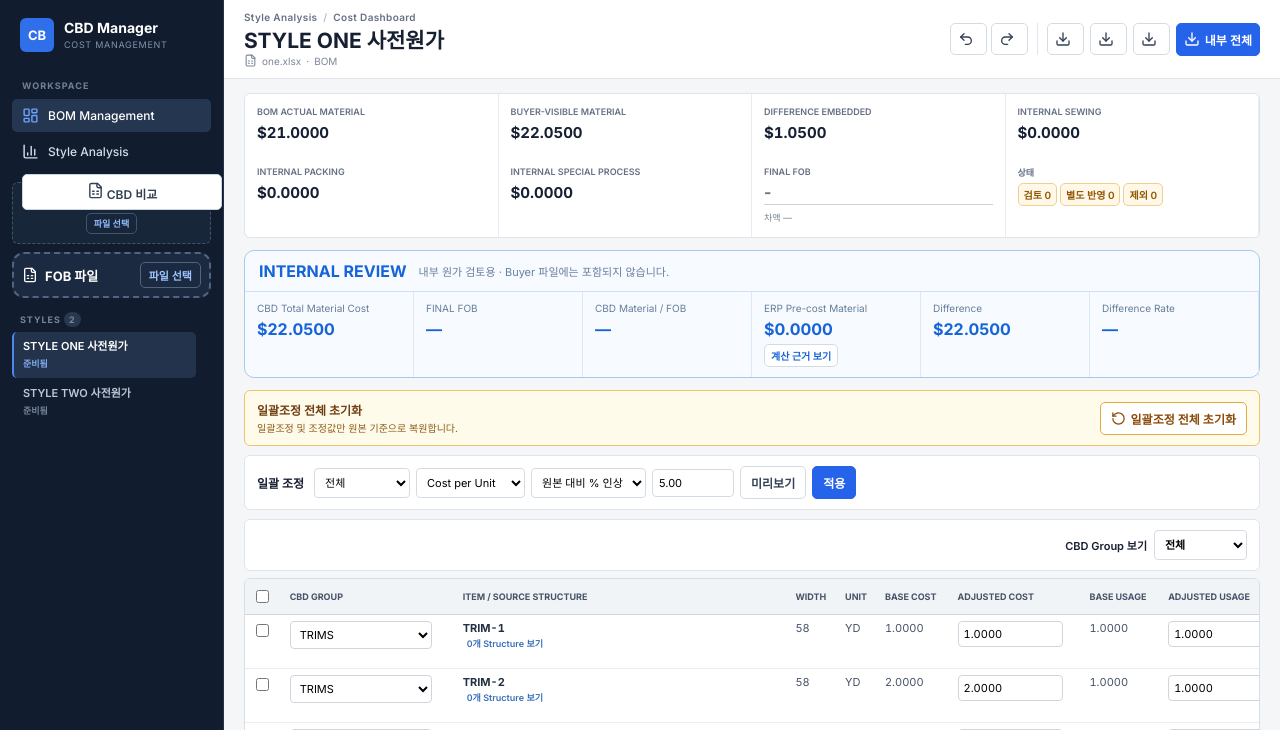
CBD workspace UI › accepts a decimal FINAL FOB, formats it to four decimals, and supports undo/redo
Click the field named "Final FOB".
click(878, 192)  # box x1=764 y1=180 x2=992 y2=205
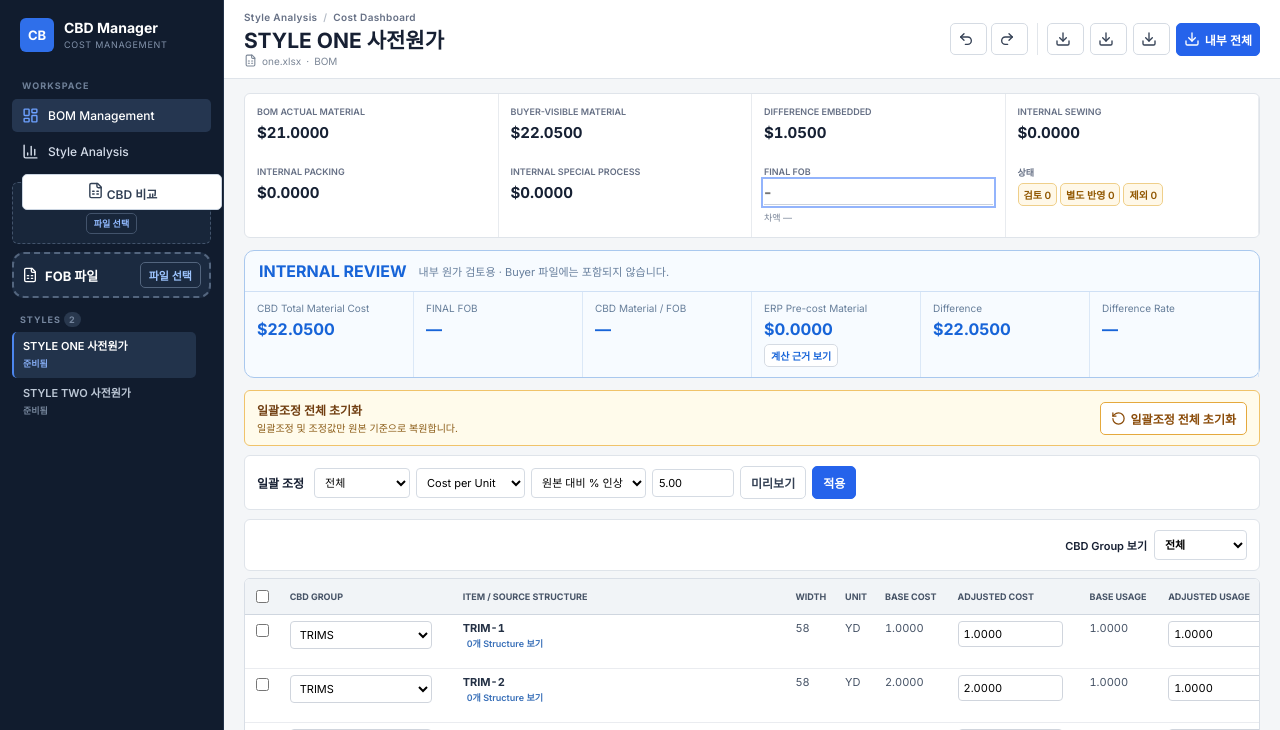
Type keys "48.98"
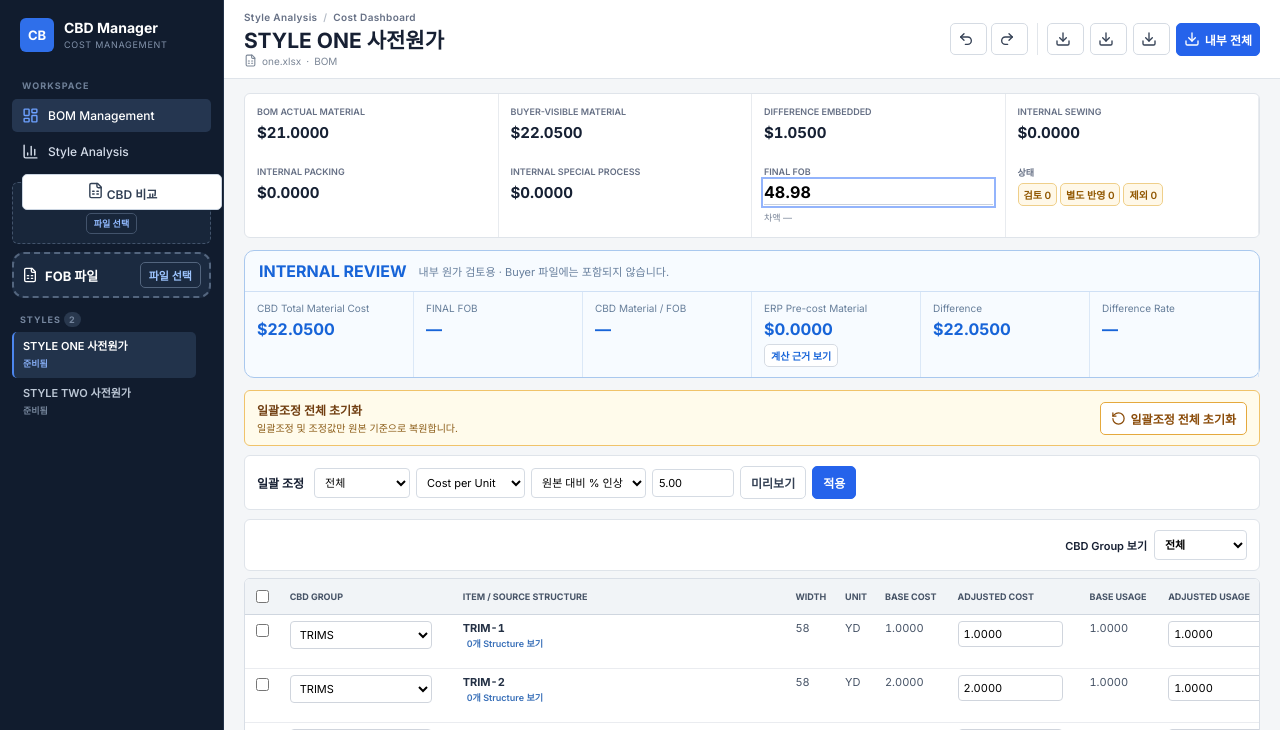
Press Tab
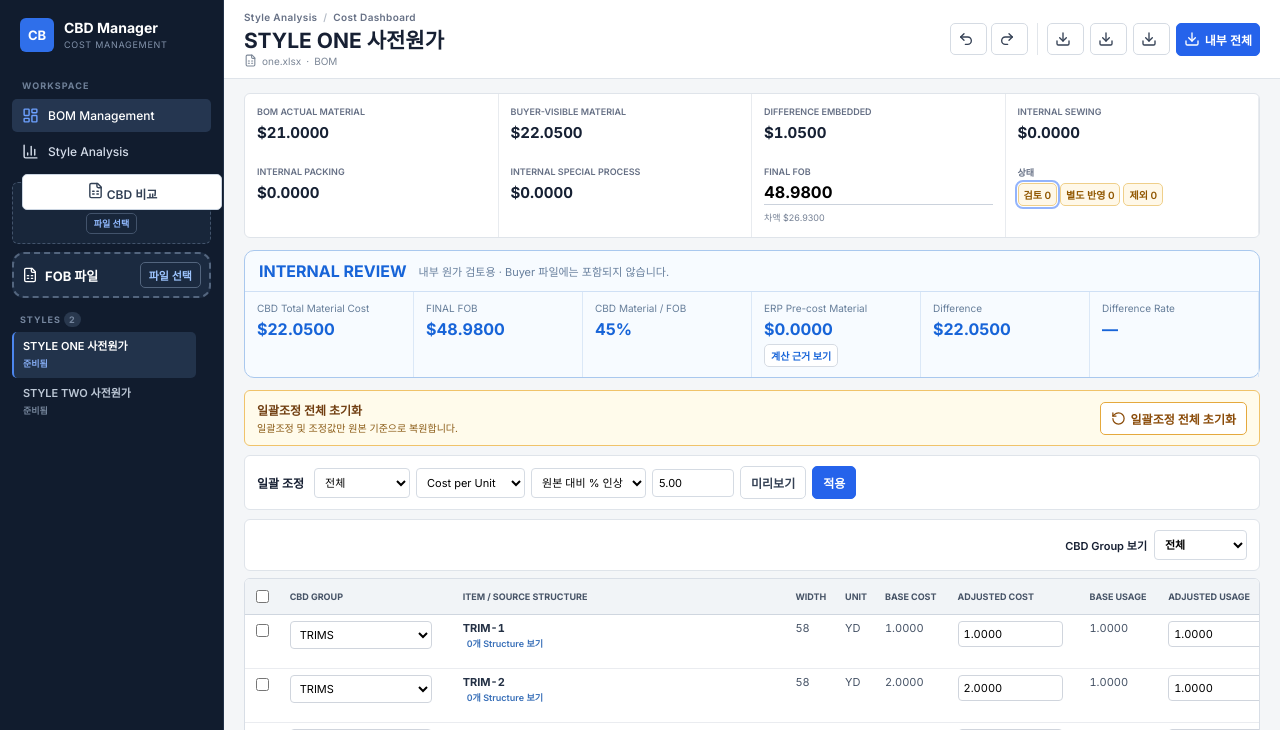
Result: the field named "Final FOB" holds "48.9800" at x1=764 y1=180 x2=992 y2=205
Result: the text "차액 $26.9300" is shown at x1=764 y1=212 x2=825 y2=223
Click the button "Undo".
click(968, 39)  # box x1=950 y1=23 x2=987 y2=55
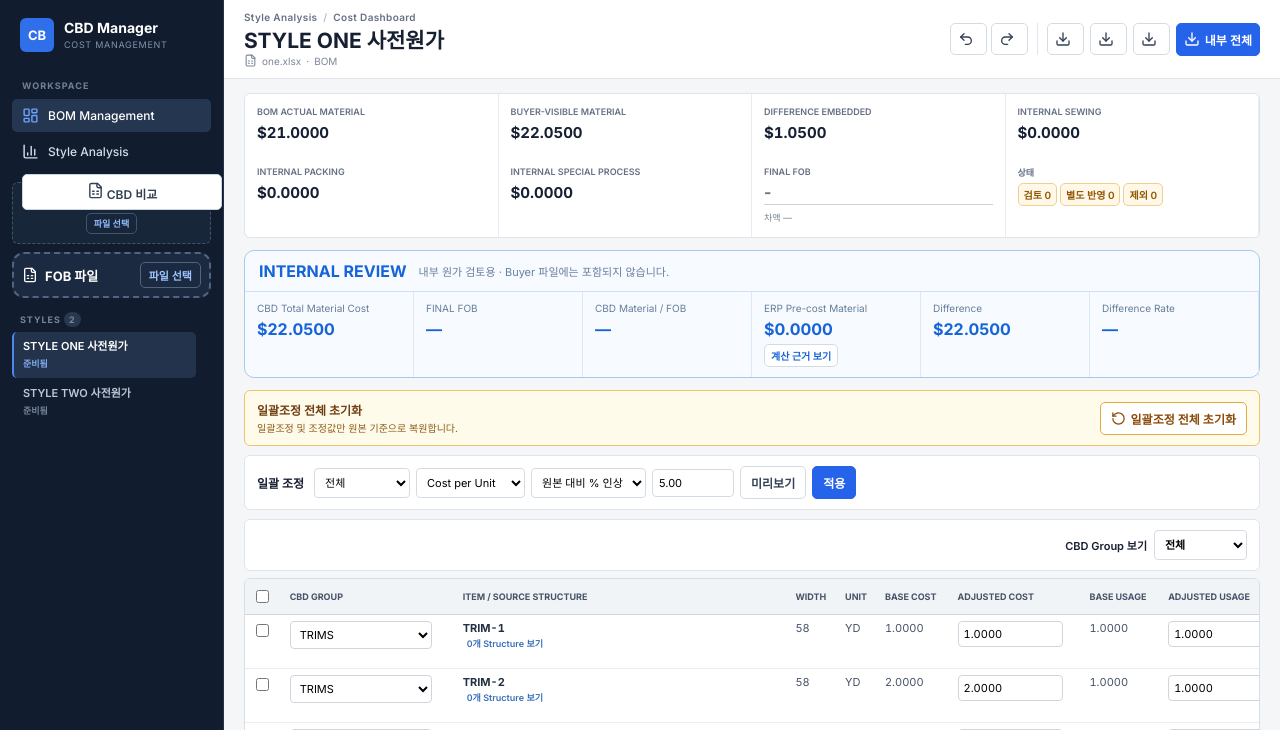
Result: the field named "Final FOB" is empty at x1=764 y1=180 x2=992 y2=205
Click the button "Redo".
click(1009, 39)  # box x1=991 y1=23 x2=1028 y2=55
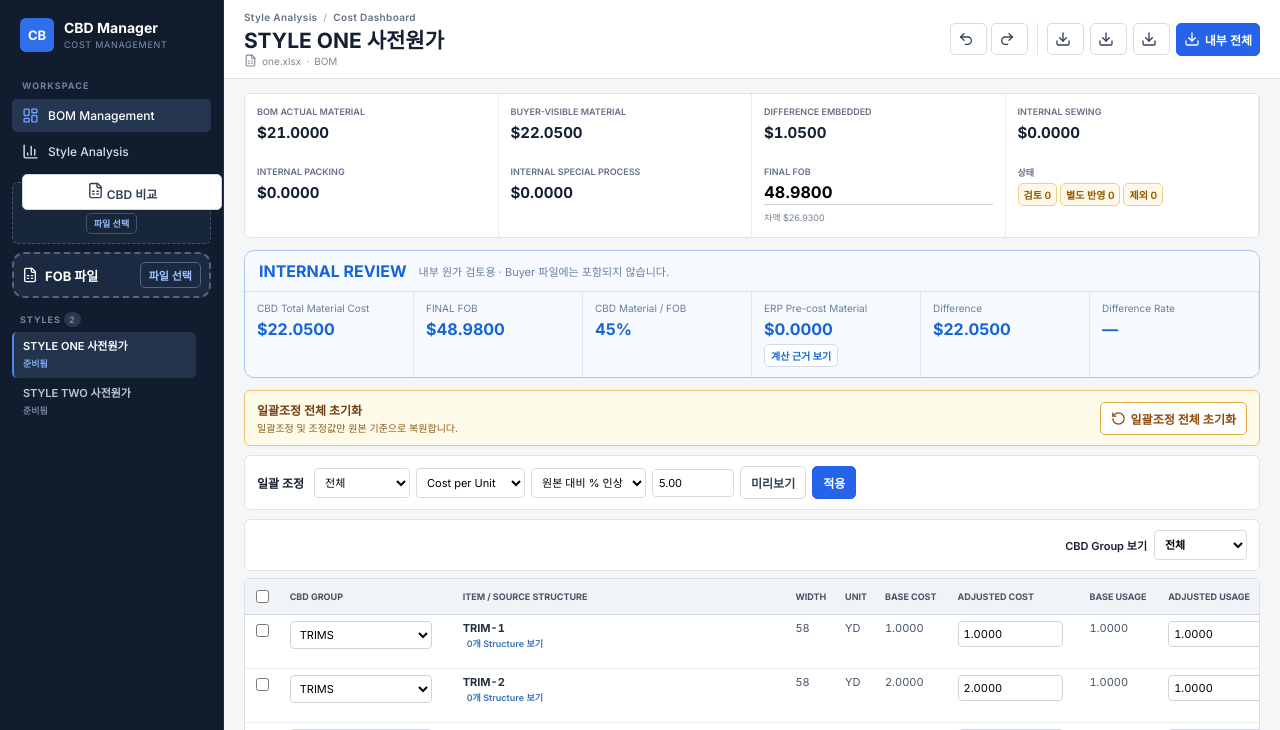
Result: the field named "Final FOB" holds "48.9800" at x1=764 y1=180 x2=992 y2=205
